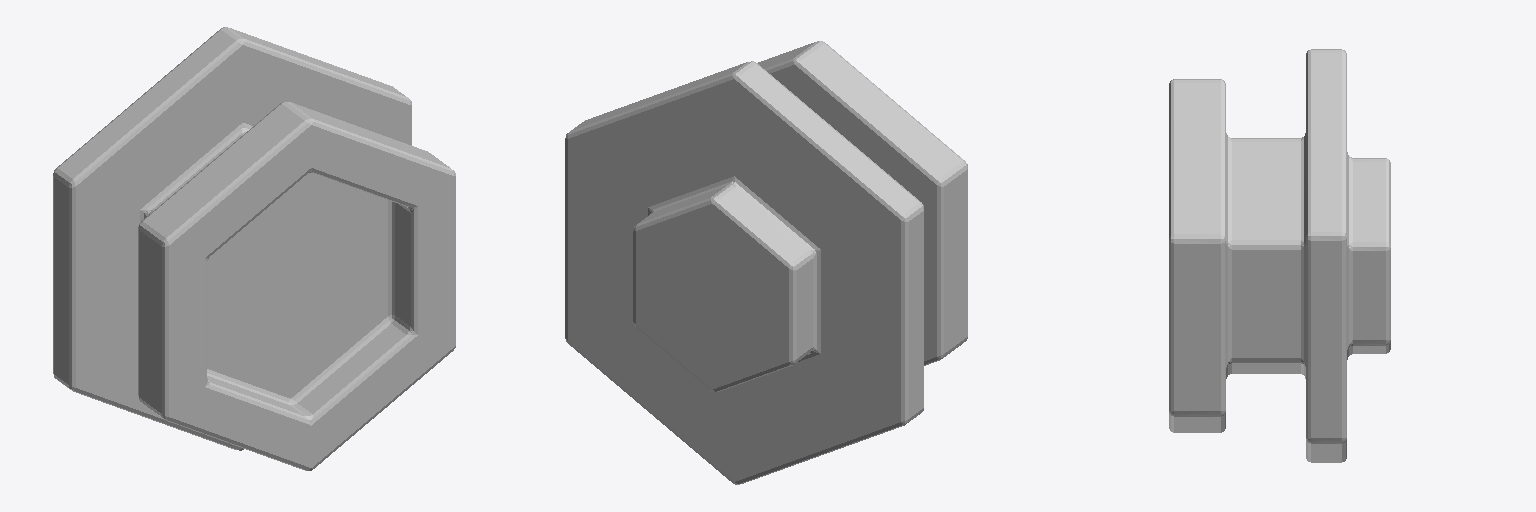
The model's file is knob.obj.
The picture shows the model from 3 angles: view 1: azimuth 30°, elevation 25°; view 2: azimuth 150°, elevation 25°; view 3: azimuth 270°, elevation 25°; orthographic projection.
Visible parts, largest first — view 1: Cylinder; view 2: Cylinder; view 3: Cylinder.
Part boxes in pixels (x1,y1,x2,y2): Cylinder: (53,27,455,470); Cylinder: (565,41,967,484); Cylinder: (1169,49,1390,462).
Size of the model in its own units: 1.45 by 1.67 by 0.8158.